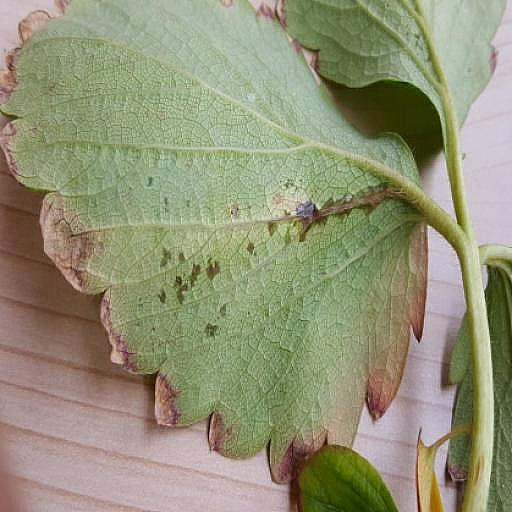Angular Leafspot: (81, 0, 510, 484)
